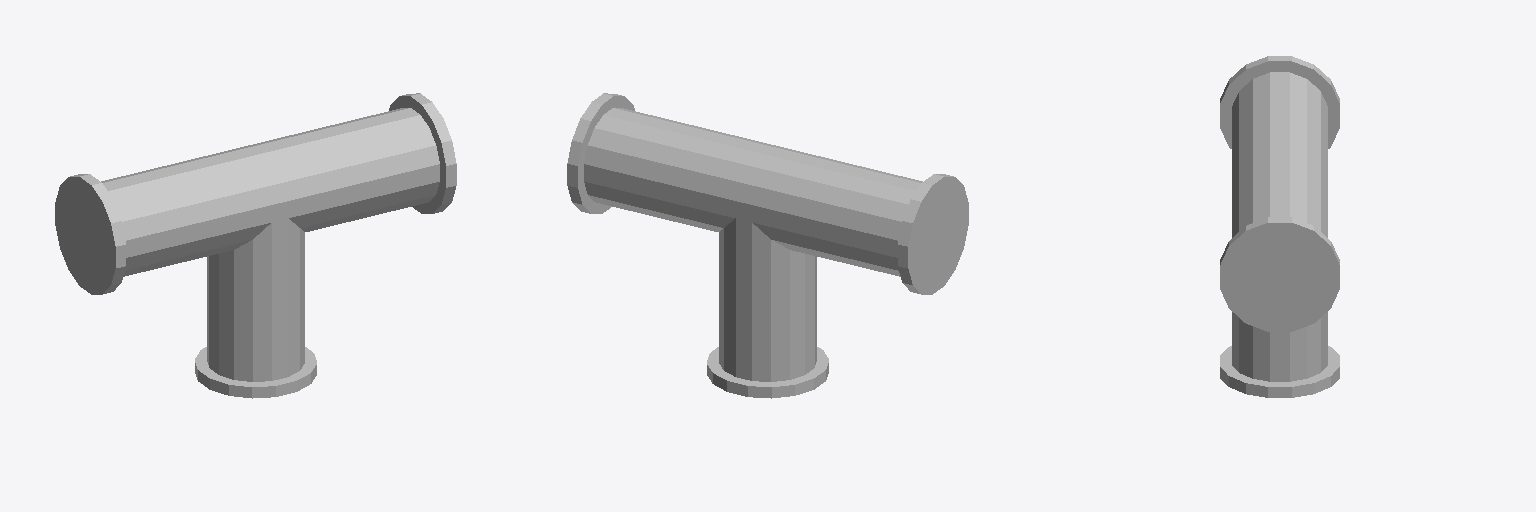
Rendered from pipeworks_pipe_6.obj.
3 renders of one model, left to right at view 1: azimuth 30°, elevation 25°; view 2: azimuth 150°, elevation 25°; view 3: azimuth 270°, elevation 25°, orthographic.
Visible parts, largest first — view 1: Cube.000; view 2: Cube.000; view 3: Cube.000.
Part boxes in pixels (x1,y1,x2,y2): Cube.000: (55, 93, 456, 398); Cube.000: (567, 93, 968, 398); Cube.000: (1220, 56, 1339, 397).
Bounding box in the file's own units: 1 × 0.6532 × 0.3065.